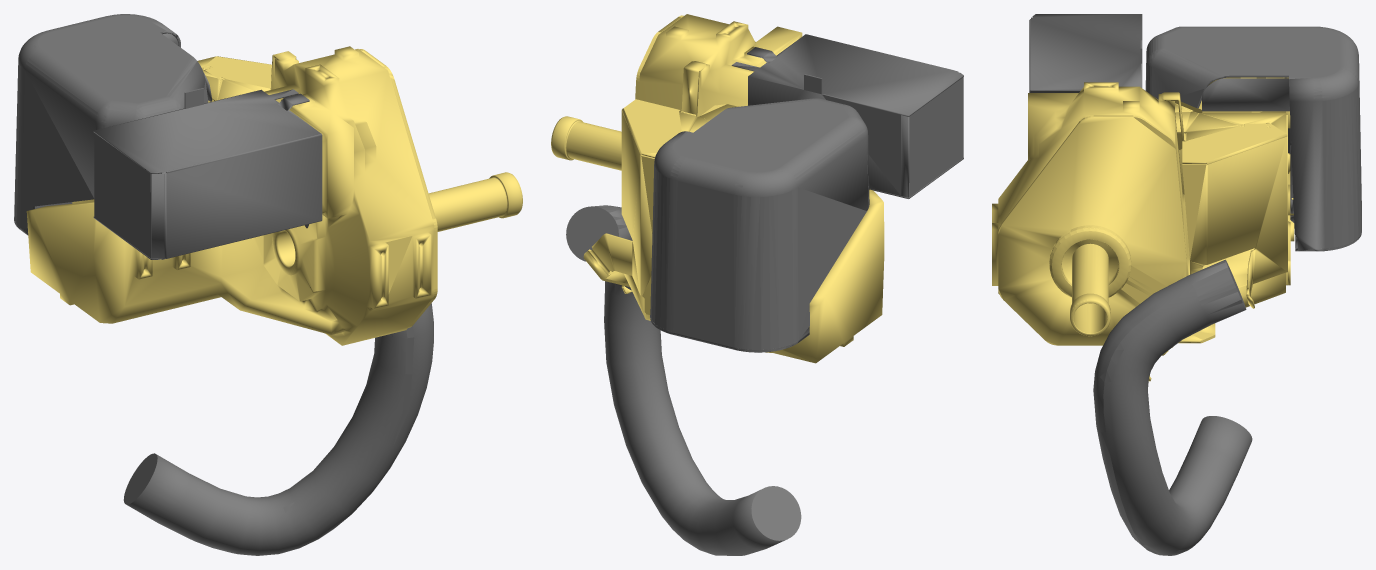
3 views of the same model, side by side, from view 1: azimuth 30°, elevation 25°; view 2: azimuth 150°, elevation 25°; view 3: azimuth 270°, elevation 25° (orthographic). The views are drawn at different scales.
Visible parts, largest first — view 1: Node_0x7fd4b7426dd0.003, Node_0x7fd4b7426dd0.002, Node_0x7fd4b7426dd0, Node_0x7fd4b7426dd0.001; view 2: Node_0x7fd4b7426dd0.001, Node_0x7fd4b7426dd0.003, Node_0x7fd4b7426dd0, Node_0x7fd4b7426dd0.002; view 3: Node_0x7fd4b7426dd0.003, Node_0x7fd4b7426dd0.001, Node_0x7fd4b7426dd0, Node_0x7fd4b7426dd0.002.
Boxes of the visible parts, x1,y1,x2,y2 form: Node_0x7fd4b7426dd0.003: (26, 46, 522, 345); Node_0x7fd4b7426dd0.002: (93, 88, 322, 259); Node_0x7fd4b7426dd0: (123, 303, 433, 555); Node_0x7fd4b7426dd0.001: (14, 14, 212, 235); Node_0x7fd4b7426dd0.001: (650, 98, 869, 352); Node_0x7fd4b7426dd0.003: (551, 14, 884, 363); Node_0x7fd4b7426dd0: (566, 205, 801, 555); Node_0x7fd4b7426dd0.002: (731, 34, 963, 198); Node_0x7fd4b7426dd0.003: (992, 77, 1294, 381); Node_0x7fd4b7426dd0.001: (1145, 26, 1361, 251); Node_0x7fd4b7426dd0: (1093, 259, 1252, 555); Node_0x7fd4b7426dd0.002: (1029, 14, 1142, 92).
Size of the model in its own units: 0.4602 by 0.4064 by 0.5696.
